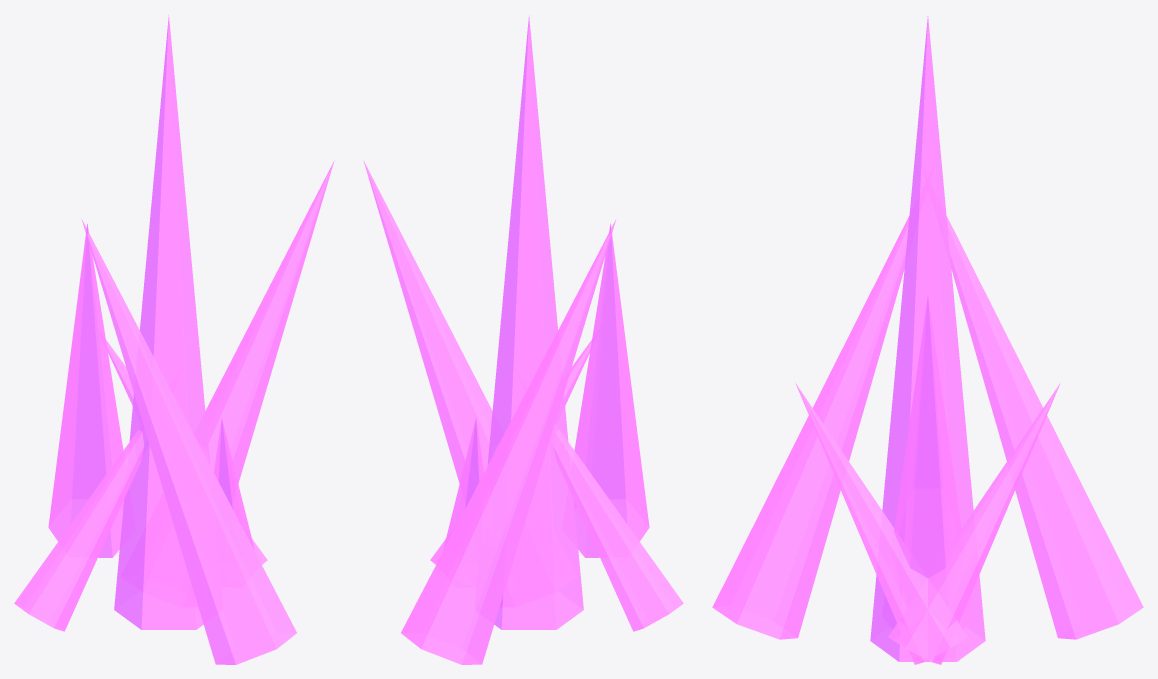
Rendered from crystal_cluster.glb.
3 renders of one model, left to right at view 1: azimuth 30°, elevation 25°; view 2: azimuth 150°, elevation 25°; view 3: azimuth 270°, elevation 25°, orthographic. The views are drawn at different scales.
Parts seen in each view (by area): view 1: Cone; view 2: Cone; view 3: Cone.
Part boxes in pixels (bbox=[...]): Cone: bbox=[14, 15, 334, 664]; Cone: bbox=[363, 15, 683, 664]; Cone: bbox=[712, 16, 1143, 664].
Size of the model in its own units: 0.9909 by 1.8 by 1.12.
